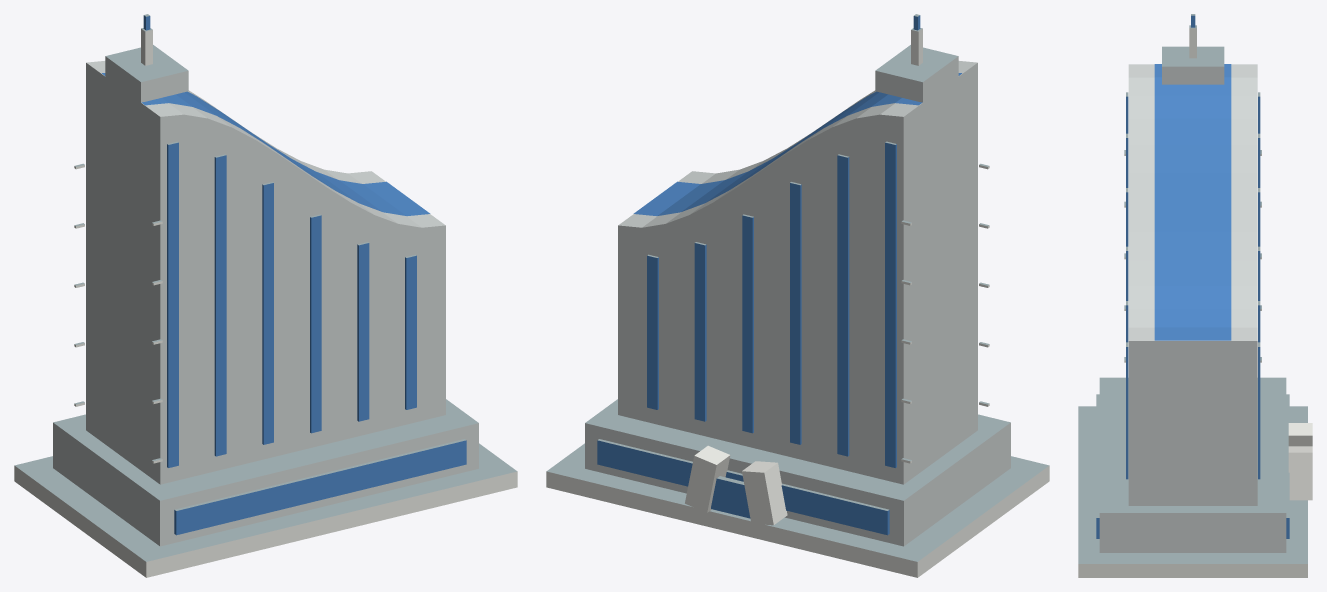
The model's file is CurvedSkyscraper.obj.
The picture shows the model from 3 angles, left to right: view 1: azimuth 30°, elevation 25°; view 2: azimuth 150°, elevation 25°; view 3: azimuth 270°, elevation 25°; orthographic projection. The views are drawn at different scales.
Bounding box in the file's own units: 0.78 × 1 × 0.49.
